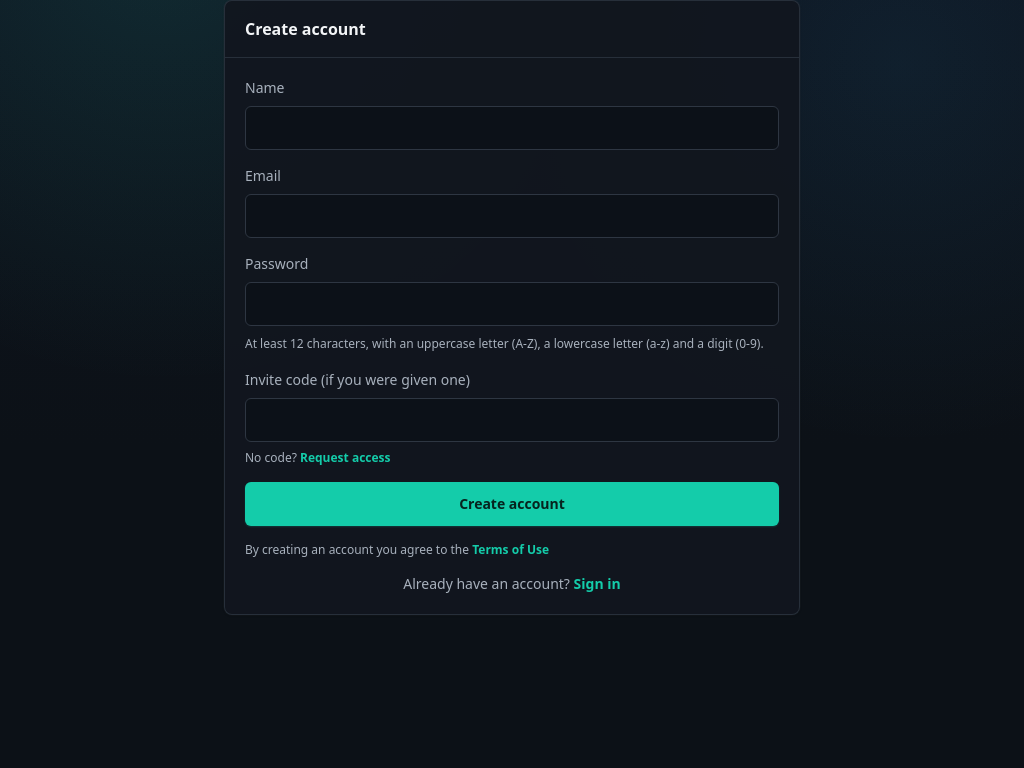
Test: AuthPanel shows localized messages for API error codes › names the email and name fields when those are the invalid ones
In the field labelled "Name": (512, 128) [245,106,779,150], type "Sara Trader"
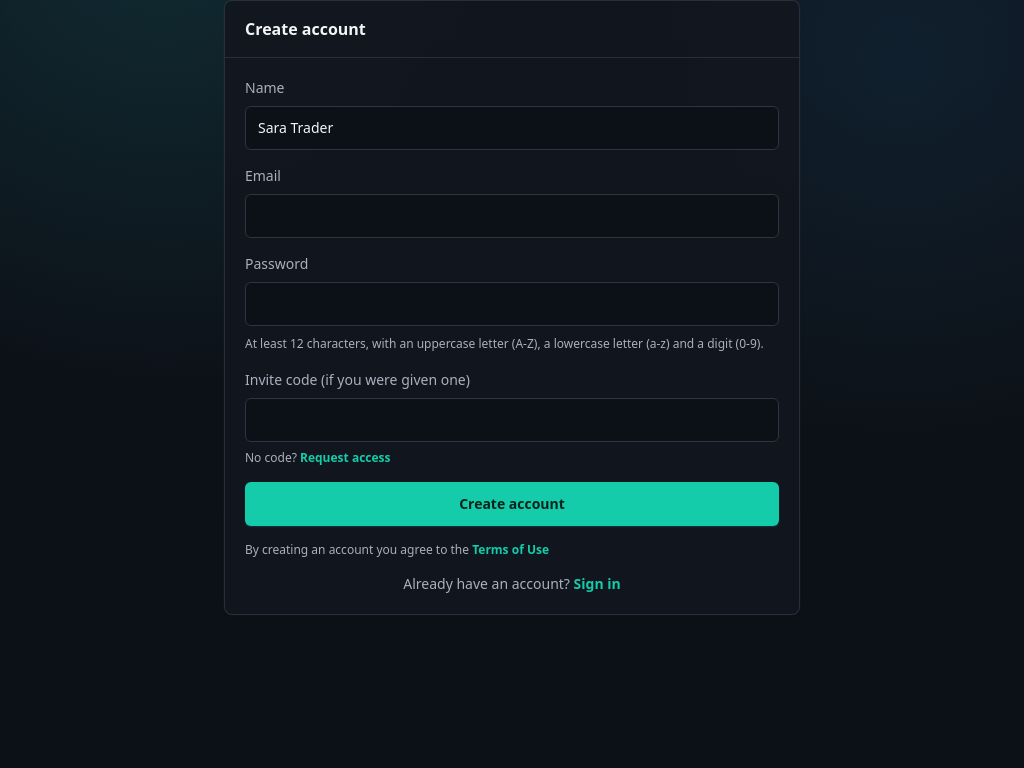
In the field labelled "Email": (512, 216) [245,194,779,238], type "sara@example.com"
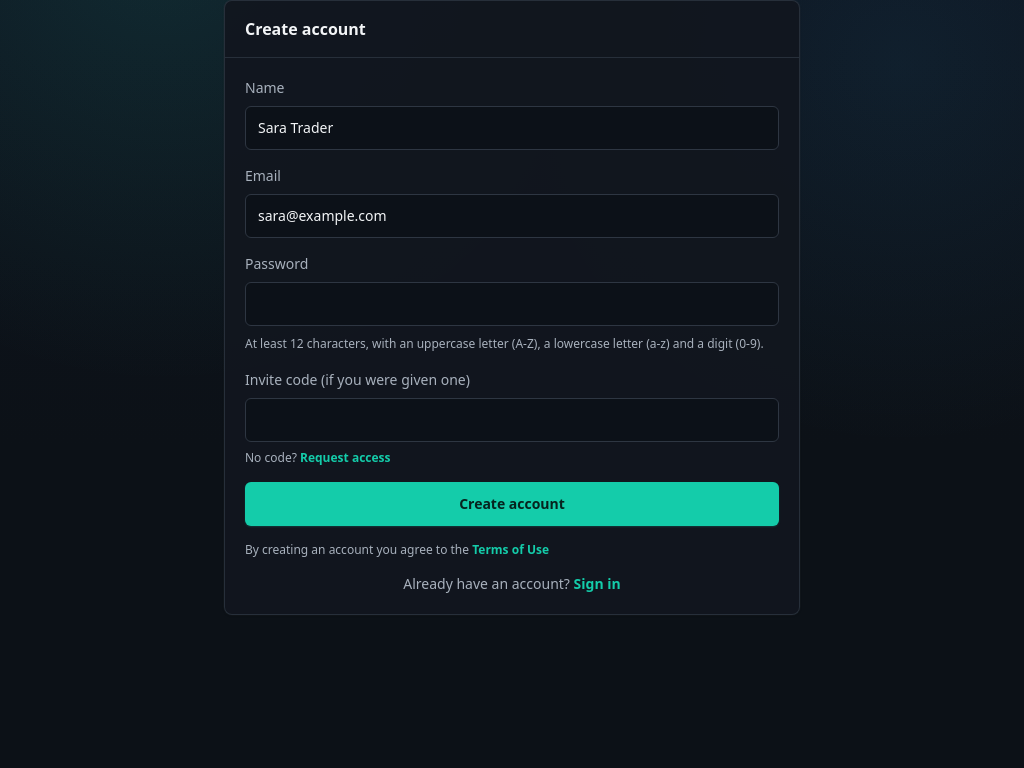
In the password field labelled "Password": (512, 304) [245,282,779,326], type "Password1abc"
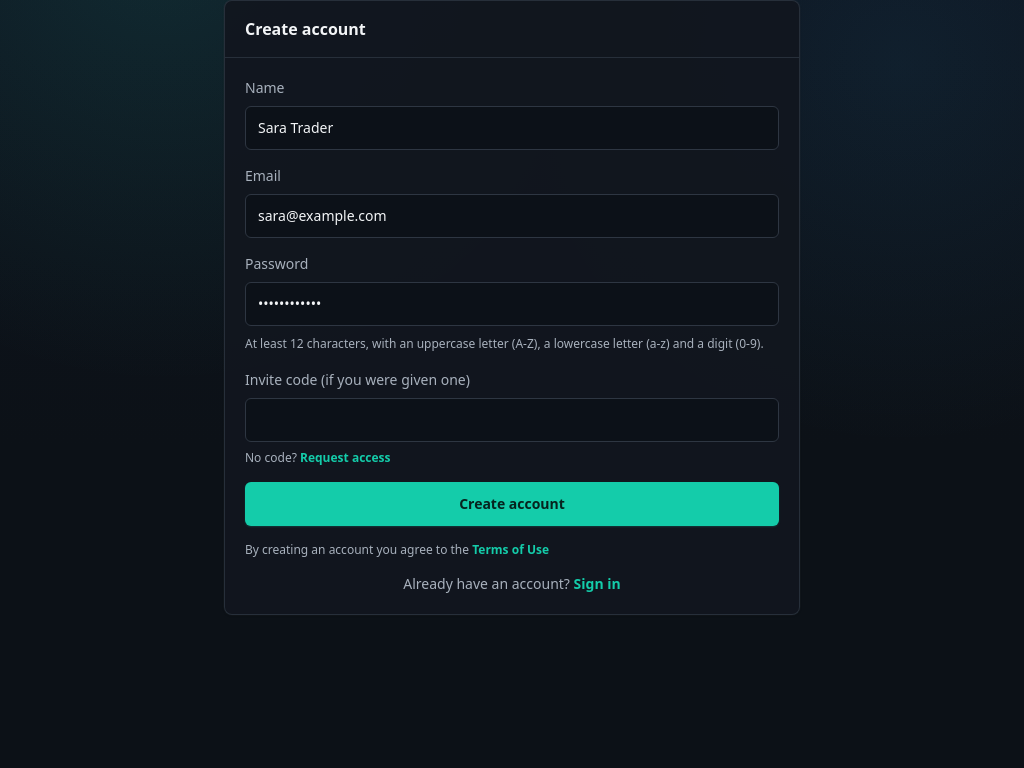
Click the button "Create account": (512, 504) [245,482,779,526]
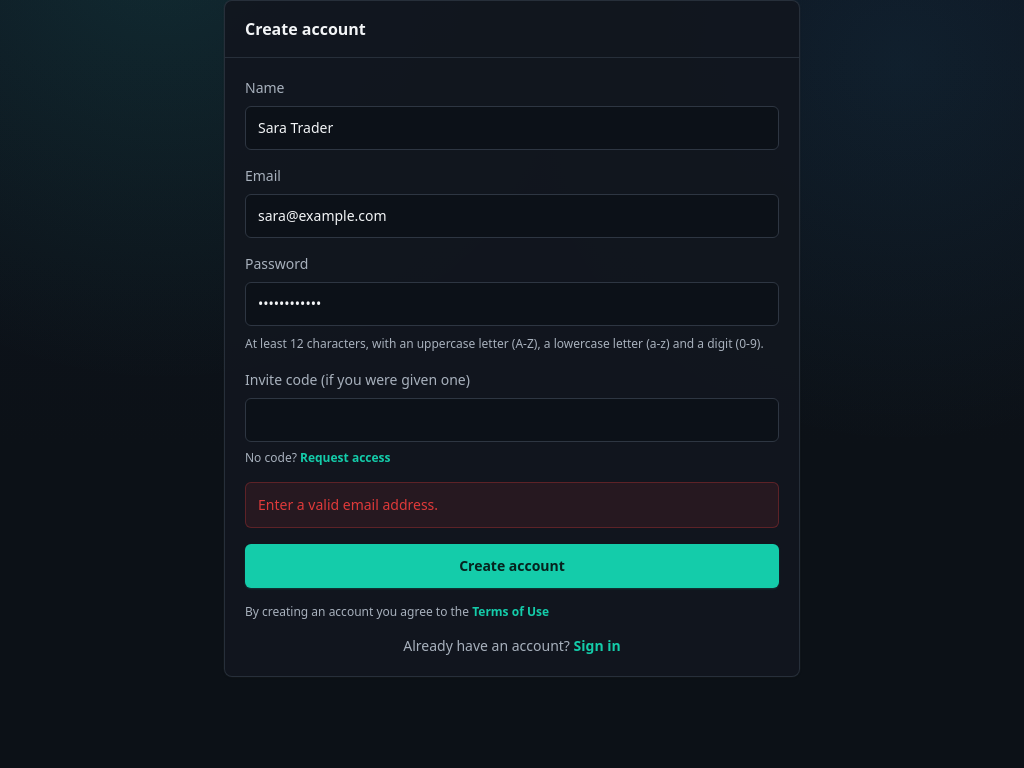
Expected: the message reads "Enter a valid email address.", [258,495,438,514]
